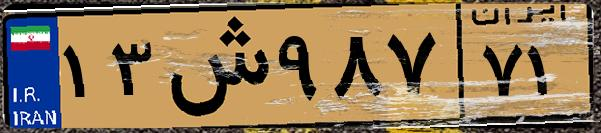1: (57, 26, 110, 100), (525, 38, 570, 115)
3: (110, 28, 158, 98)
7: (385, 28, 445, 110), (475, 38, 525, 113)
8: (330, 28, 385, 110)
9: (270, 28, 330, 110)
ش: (158, 12, 270, 120)
